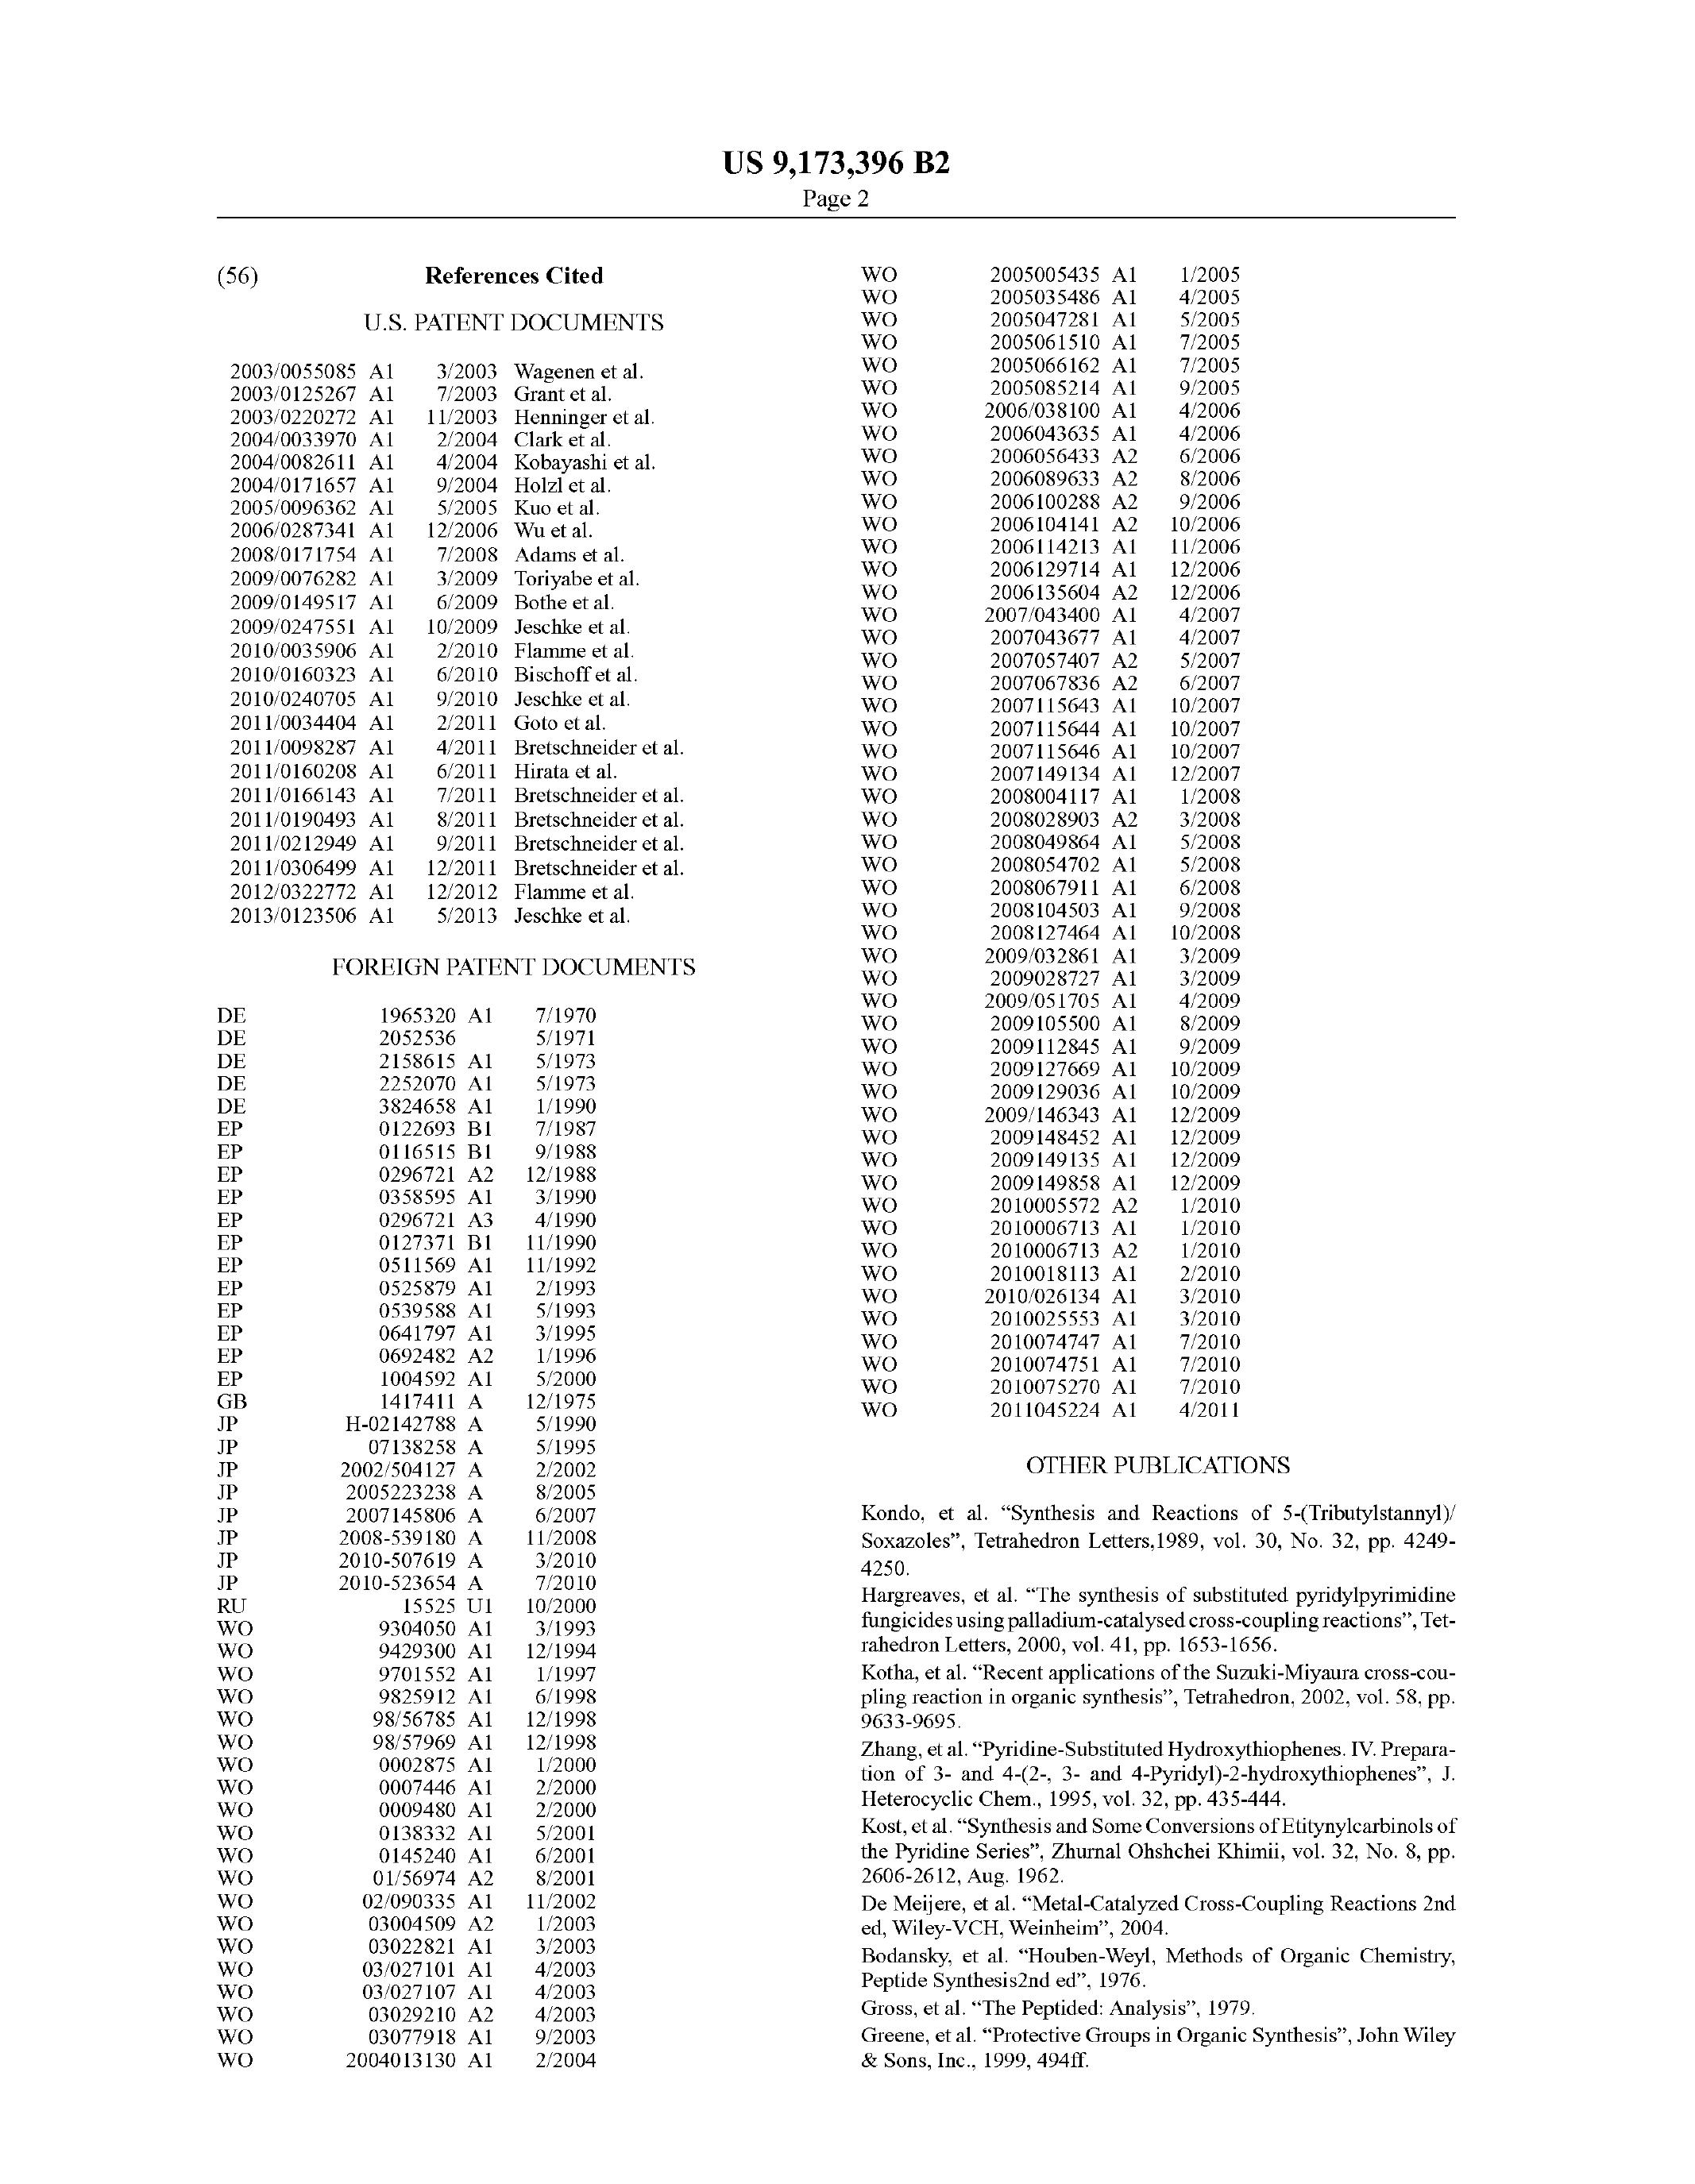reactions: (849, 1649, 1539, 1984)
